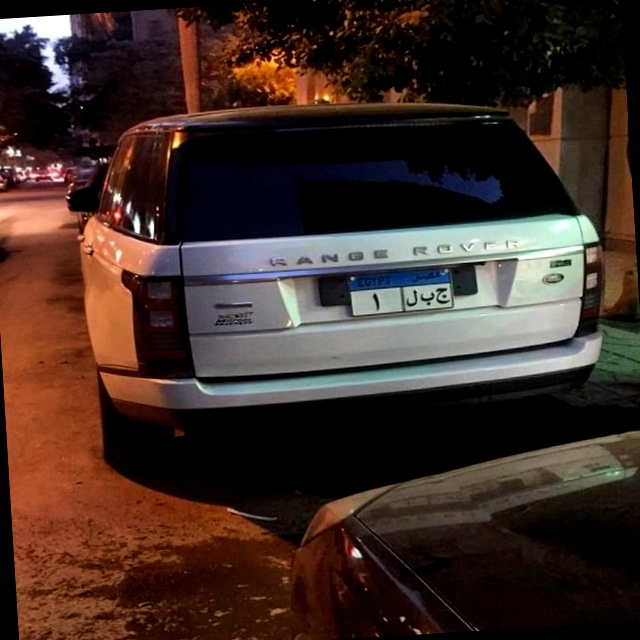License Plate: (345, 265, 458, 319)
